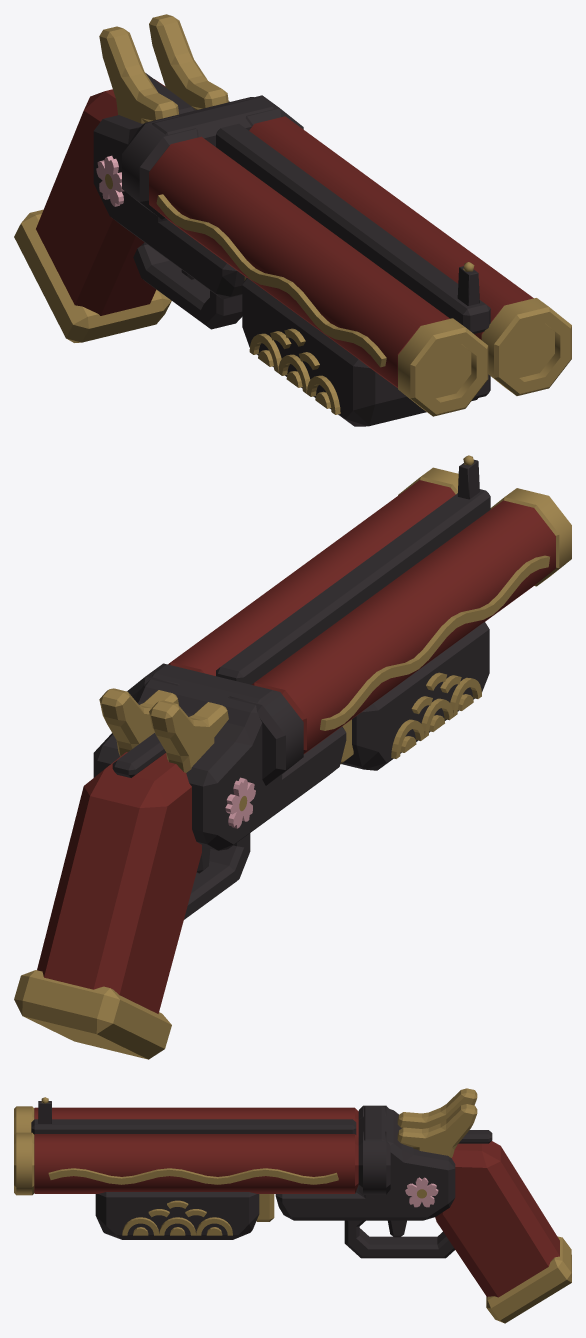
File: w_sawnoff@sawnoff_twintide.glb
3 views of the same model, one above another, from view 1: azimuth 30°, elevation 25°; view 2: azimuth 150°, elevation 25°; view 3: azimuth 270°, elevation 25° (orthographic). The views are drawn at different scales.
Visible parts, largest first — view 1: hinge_wzA__red__p6a2420, hinge_trim_wzN__steel__p9a7f48, body_wzB__frame__p2f2a2c, grip_wzA__wood__p6a2420, hinge_wzB__frame__p2f2a2c, forend_wzA__black__p2f2a2c, grip_wzN__gold__p9a7f48, hammerR_wzN__steel__p9a7f48, body_wzN__dark__p2f2a2c, hammerL_wzN__steel__p9a7f48, hinge_wzN__gold__p9a7f48, forend_wzN__gold__p9a7f48 (+1 smaller); view 2: hinge_wzA__red__p6a2420, grip_wzA__wood__p6a2420, body_wzB__frame__p2f2a2c, hinge_wzB__frame__p2f2a2c, grip_wzN__gold__p9a7f48, forend_wzA__black__p2f2a2c, hinge_wzN__gold__p9a7f48, hammerR_wzN__steel__p9a7f48, forend_wzN__gold__p9a7f48, hammerL_wzN__steel__p9a7f48, body_wzN__dark__p2f2a2c, hinge_trim_wzN__steel__p9a7f48 (+1 smaller); view 3: hinge_wzA__red__p6a2420, grip_wzA__wood__p6a2420, body_wzB__frame__p2f2a2c, forend_wzA__black__p2f2a2c, hinge_wzB__frame__p2f2a2c, body_wzN__dark__p2f2a2c, grip_wzN__gold__p9a7f48, hinge_wzN__gold__p9a7f48, hammerL_wzN__steel__p9a7f48, hinge_trim_wzN__steel__p9a7f48, forend_wzN__gold__p9a7f48, hammerR_wzN__steel__p9a7f48 (+2 smaller).
Boxes of the visible parts, x1=… form: hinge_wzA__red__p6a2420: x1=149, y1=116, x2=533, y2=387; hinge_trim_wzN__steel__p9a7f48: x1=398, y1=298, x2=571, y2=416; body_wzB__frame__p2f2a2c: x1=93, y1=73, x2=303, y2=299; grip_wzA__wood__p6a2420: x1=36, y1=79, x2=165, y2=315; hinge_wzB__frame__p2f2a2c: x1=216, y1=123, x2=490, y2=399; forend_wzA__black__p2f2a2c: x1=242, y1=278, x2=477, y2=426; grip_wzN__gold__p9a7f48: x1=14, y1=209, x2=171, y2=342; hammerR_wzN__steel__p9a7f48: x1=99, y1=26, x2=178, y2=123; body_wzN__dark__p2f2a2c: x1=133, y1=242, x2=242, y2=329; hammerL_wzN__steel__p9a7f48: x1=149, y1=14, x2=228, y2=109; hinge_wzN__gold__p9a7f48: x1=156, y1=194, x2=386, y2=367; forend_wzN__gold__p9a7f48: x1=249, y1=328, x2=340, y2=414; hinge_wzA__red__p6a2420: x1=168, y1=480, x2=555, y2=753; grip_wzA__wood__p6a2420: x1=37, y1=752, x2=201, y2=1013; body_wzB__frame__p2f2a2c: x1=93, y1=663, x2=346, y2=850; hinge_wzB__frame__p2f2a2c: x1=216, y1=459, x2=490, y2=684; grip_wzN__gold__p9a7f48: x1=14, y1=970, x2=171, y2=1059; forend_wzA__black__p2f2a2c: x1=341, y1=622, x2=489, y2=770; hinge_wzN__gold__p9a7f48: x1=320, y1=555, x2=549, y2=730; hammerR_wzN__steel__p9a7f48: x1=149, y1=700, x2=228, y2=772; forend_wzN__gold__p9a7f48: x1=391, y1=672, x2=481, y2=758; hammerL_wzN__steel__p9a7f48: x1=99, y1=688, x2=178, y2=756; body_wzN__dark__p2f2a2c: x1=184, y1=833, x2=250, y2=919; hinge_trim_wzN__steel__p9a7f48: x1=398, y1=467, x2=571, y2=586; hinge_wzA__red__p6a2420: x1=34, y1=1107, x2=358, y2=1193; grip_wzA__wood__p6a2420: x1=435, y1=1141, x2=559, y2=1297; body_wzB__frame__p2f2a2c: x1=275, y1=1105, x2=492, y2=1220; forend_wzA__black__p2f2a2c: x1=95, y1=1192, x2=259, y2=1239; hinge_wzB__frame__p2f2a2c: x1=31, y1=1101, x2=356, y2=1134; body_wzN__dark__p2f2a2c: x1=344, y1=1220, x2=454, y2=1258; grip_wzN__gold__p9a7f48: x1=486, y1=1236, x2=571, y2=1323; hinge_wzN__gold__p9a7f48: x1=48, y1=1168, x2=338, y2=1184; hammerL_wzN__steel__p9a7f48: x1=397, y1=1104, x2=477, y2=1157; hinge_trim_wzN__steel__p9a7f48: x1=14, y1=1106, x2=34, y2=1195; forend_wzN__gold__p9a7f48: x1=122, y1=1200, x2=232, y2=1235; hammerR_wzN__steel__p9a7f48: x1=397, y1=1088, x2=477, y2=1128.
Size of the model in its own units: 0.1086 by 0.2057 by 0.4842.
